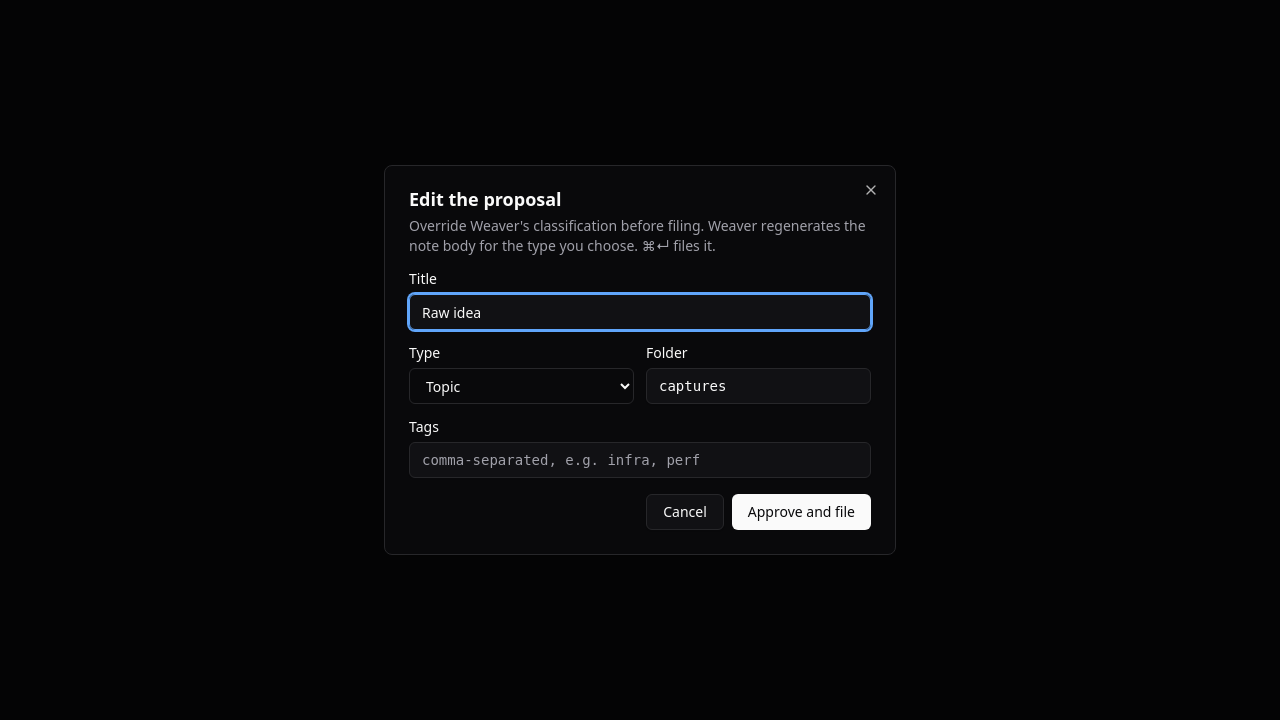
Test case: EditSuggestionModal discard guard › keeps the editor open when the discard is cancelled
Type "x" into the field showing "Raw idea". click: coordinates (640, 312)
box: [409, 294, 871, 330]
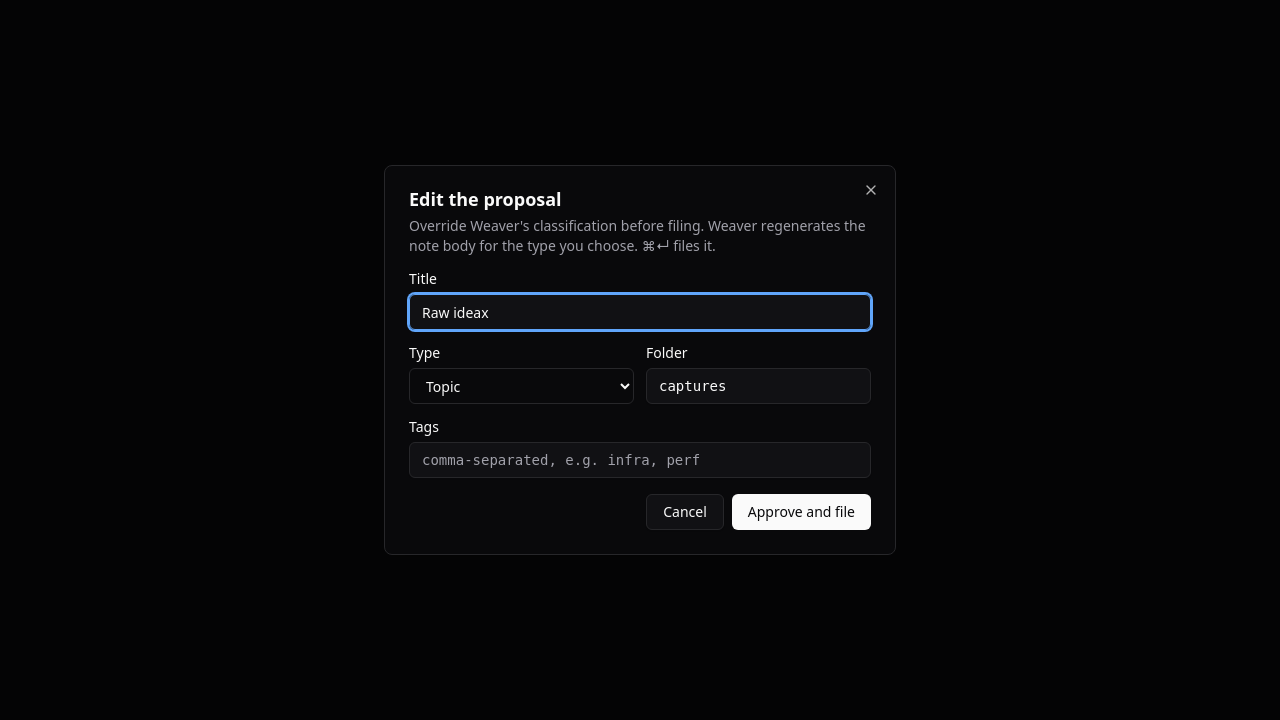
Click the button "Cancel". click: coordinates (685, 512)
box: [646, 494, 724, 530]
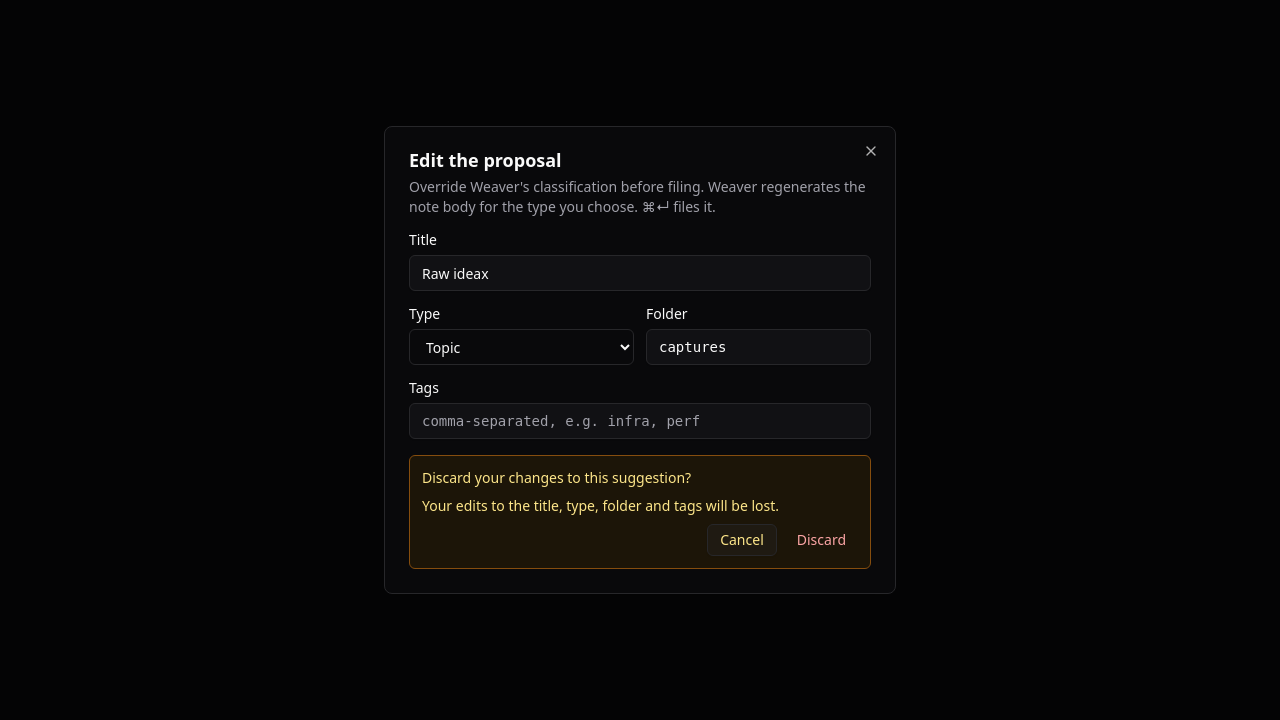
# The discard dialog's own Cancel dismisses just the confirm.
Click the button "Cancel". click: coordinates (742, 540)
box: [707, 524, 777, 556]
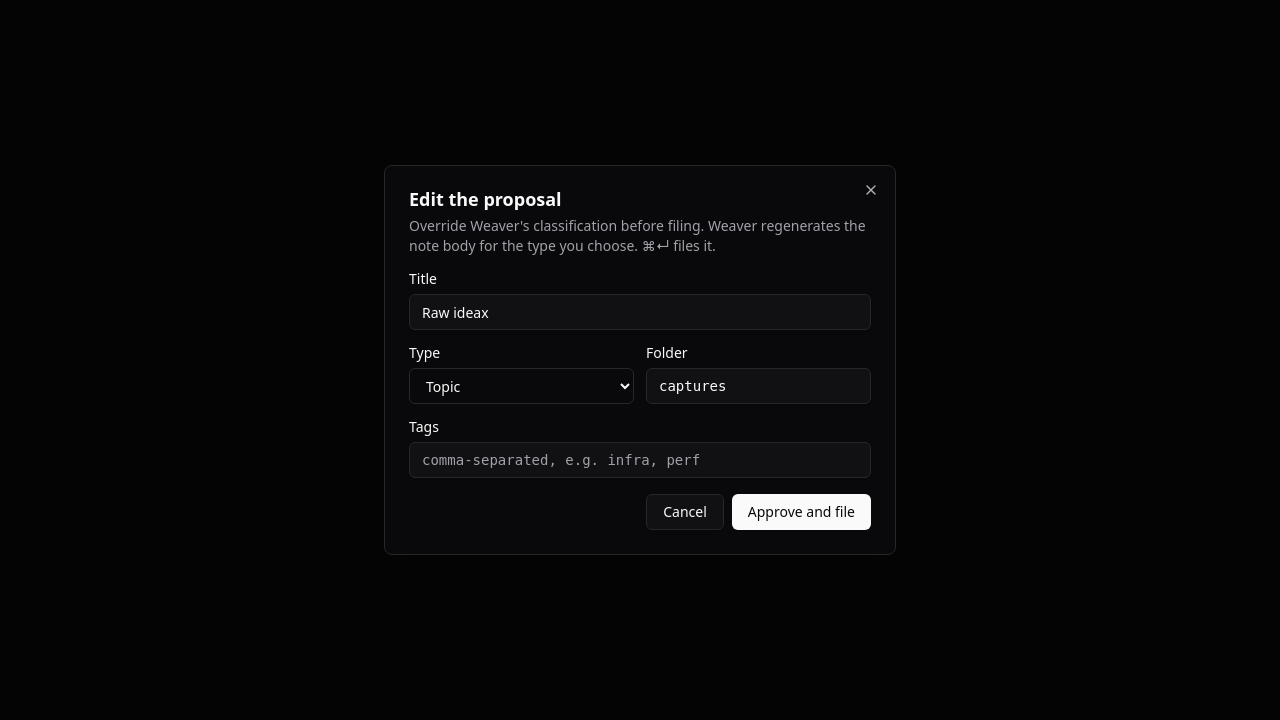
Expected: the heading "Edit the proposal" is shown, [409, 187, 562, 211]
Expected: the heading "Discard your changes to this suggestion?" is gone
